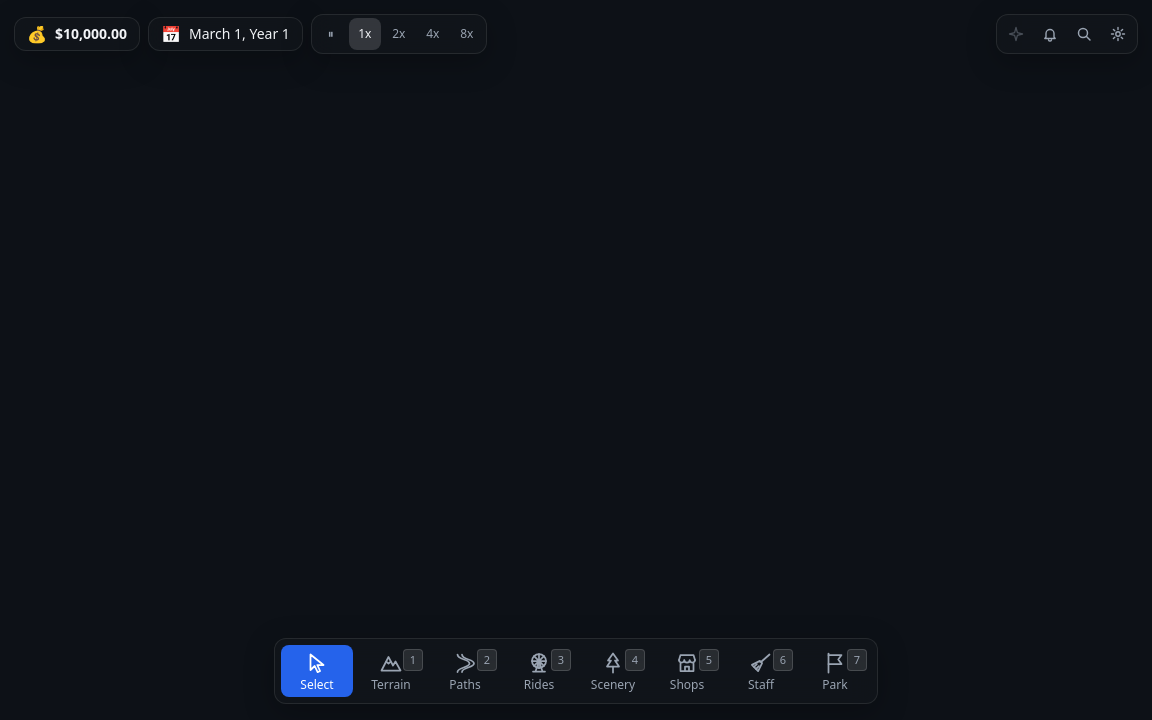
Scenario: the status pills open the inspector › the cash pill opens Finances on the park
The width and height of the screenshot is (1152, 720).
Click the button named "Open finances": [77, 34] box [15, 18, 139, 50]
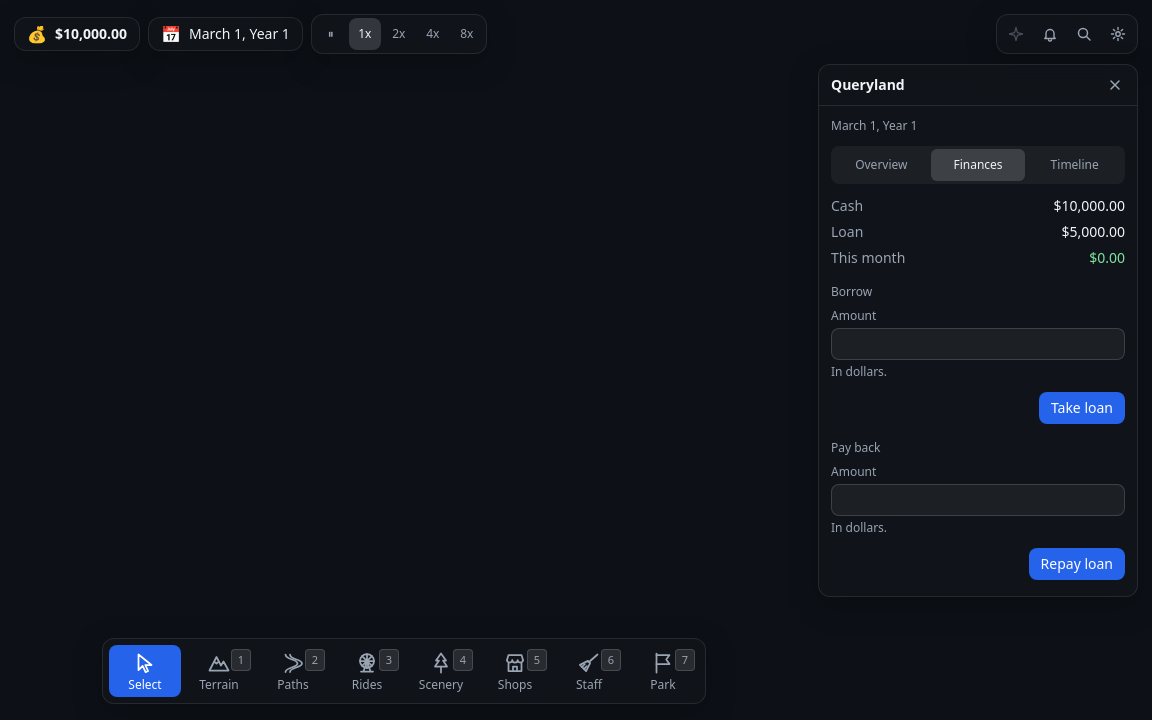
Expected: the text "This month" is shown, [831, 248, 905, 268]
